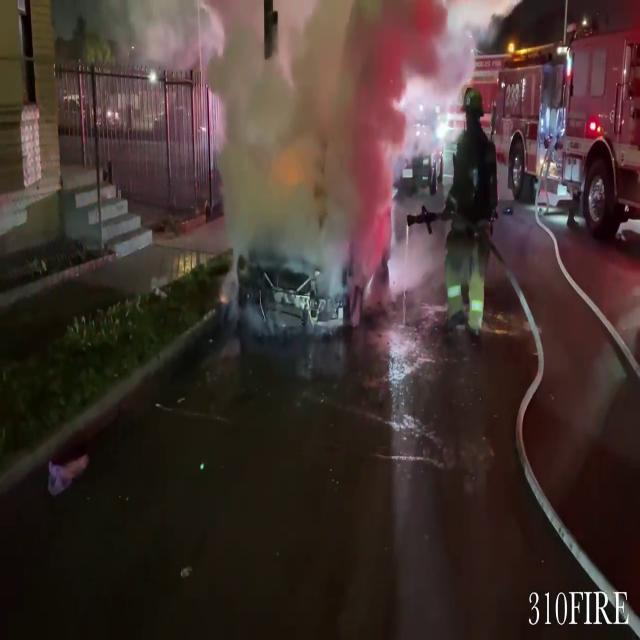Smoke: (207, 0, 433, 279)
